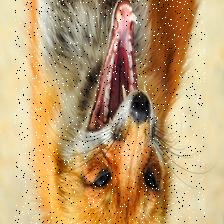fox: (14, 0, 204, 224)
